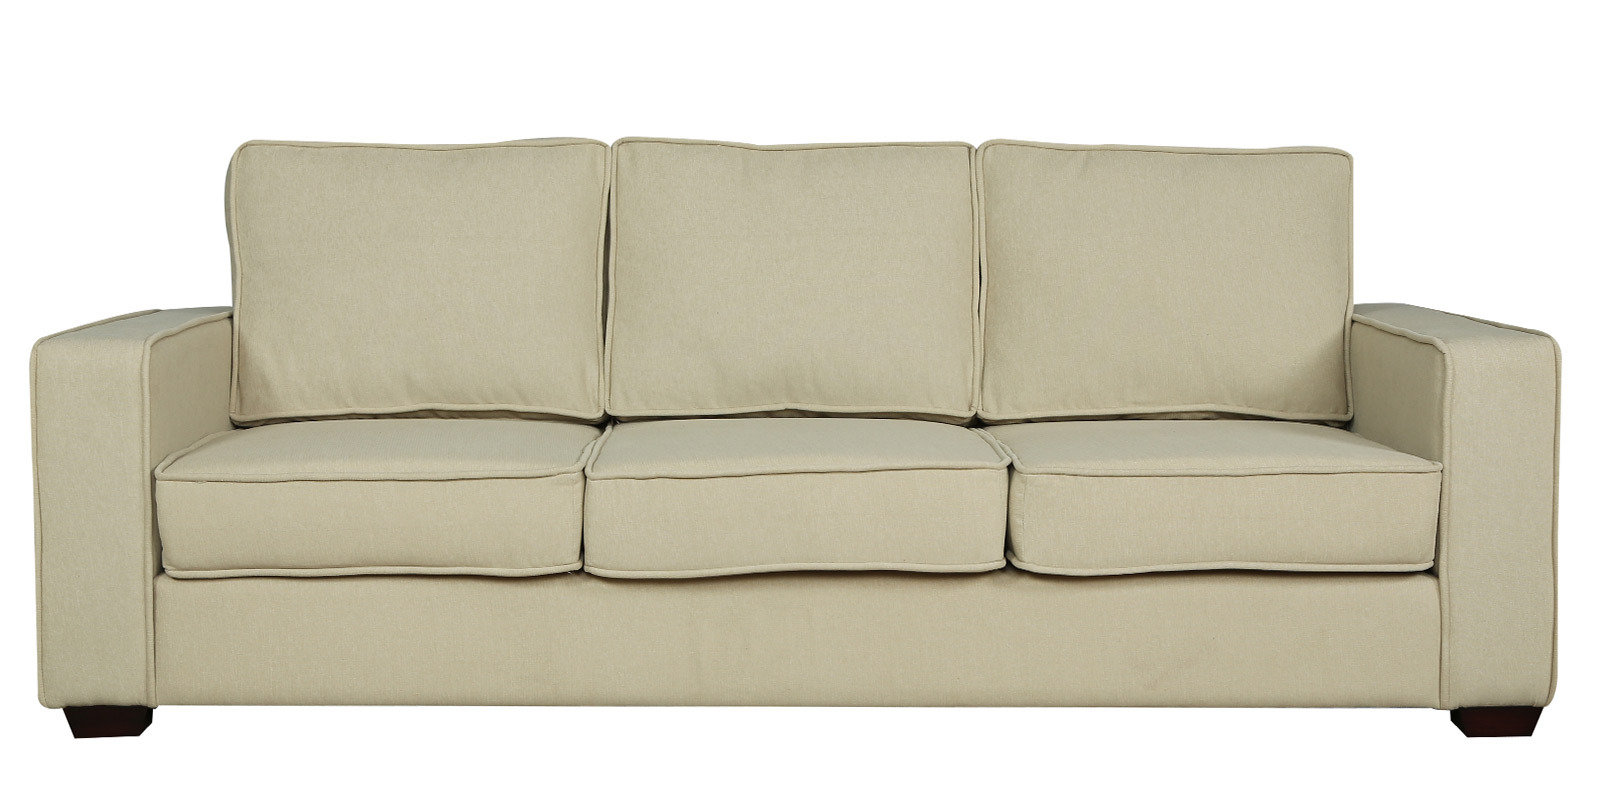Hugo Three Seater Sofa in Beige Colour by CasaCraft: (29, 111, 1595, 763)
